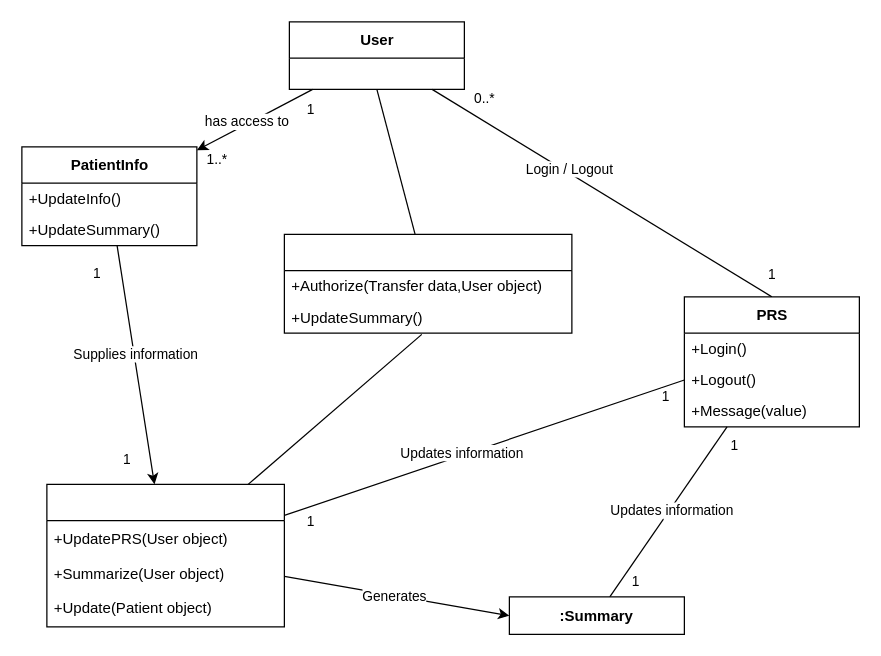
This 881x656 diagram has some shape labels left out. The shapes that lost their labels are listed below. From the top down, each one's box as (x1, y1, x2, y2) in pixels, then its label:
(283, 233, 572, 333): Authorization
(46, 483, 284, 627): Mentcare-DB
